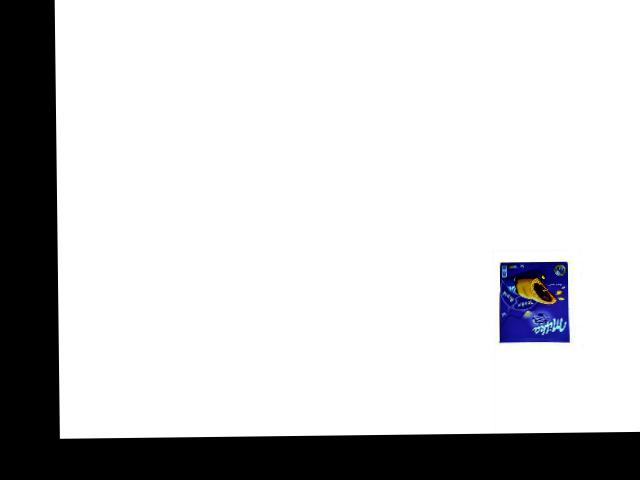chocolate: (495, 256, 573, 348)
